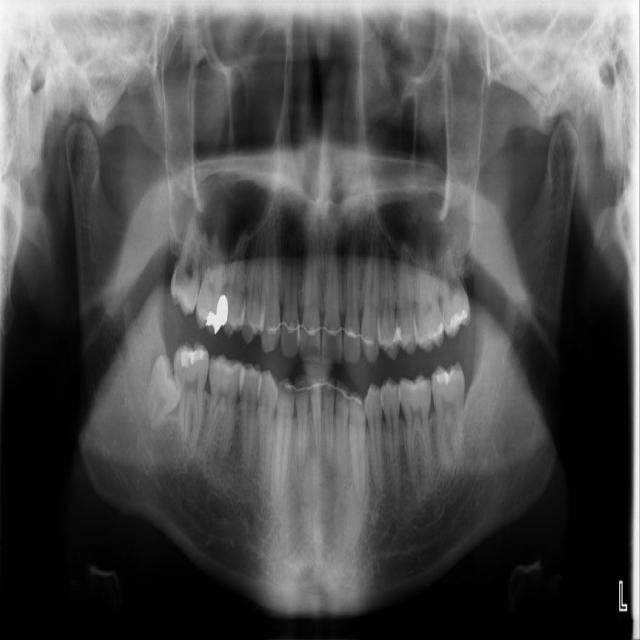52: (435, 279, 475, 340), (192, 279, 233, 336), (428, 361, 469, 415), (410, 298, 447, 354), (174, 341, 210, 390), (393, 306, 420, 355)
73: (592, 570, 598, 582)
BioHorizons Implant: (435, 221, 472, 339)
Blue Sky Bio Implant: (431, 361, 465, 467)
Caries: (167, 198, 209, 317)
Implant: (173, 340, 210, 447)
Keystone Dental Implant: (139, 352, 189, 435)
